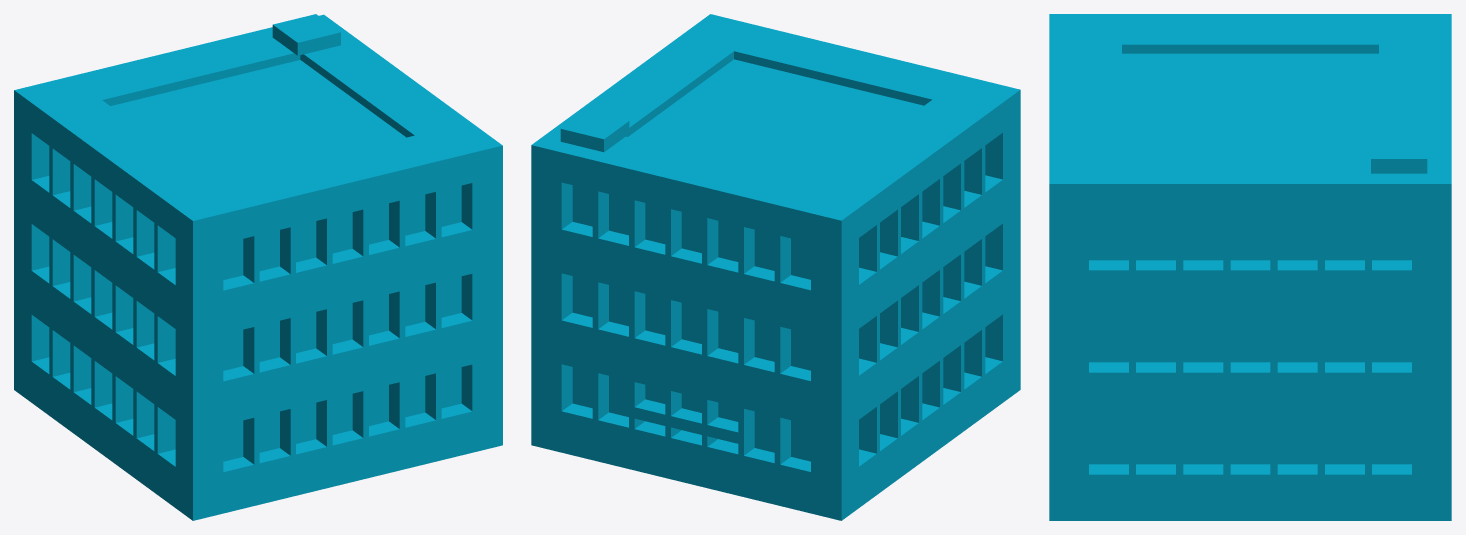
File: educational.glb
3 renders of one model, left to right at view 1: azimuth 30°, elevation 25°; view 2: azimuth 150°, elevation 25°; view 3: azimuth 270°, elevation 25°, orthographic. The views are drawn at different scales.
Visible parts, largest first — view 1: educational; view 2: educational; view 3: educational.
Boxes of the visible parts, left/top/right/bottom form: educational: left=14, top=14, right=502, bottom=520; educational: left=531, top=14, right=1020, bottom=520; educational: left=1049, top=14, right=1451, bottom=520.
Bounding box in the file's own units: 1 × 0.965 × 1.
